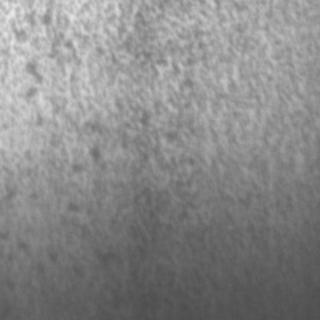pitted_surface: (0, 0, 312, 236)
